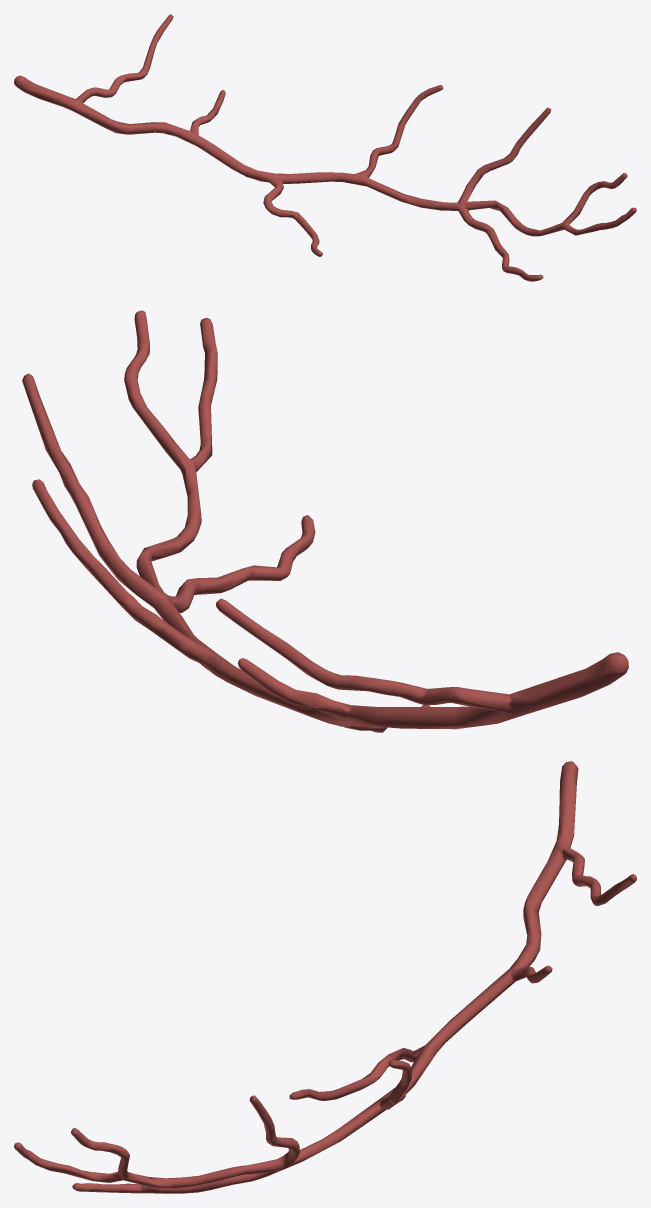
The model's file is FMA76994.glb.
The picture shows the model from 3 angles, top to bottom: view 1: azimuth 30°, elevation 25°; view 2: azimuth 150°, elevation 25°; view 3: azimuth 270°, elevation 25°; orthographic projection. The views are drawn at different scales.
Parts seen in each view (by area): view 1: FMA76994; view 2: FMA76994; view 3: FMA76994.
Part boxes in pixels (x1=…): FMA76994: x1=14, y1=14, x2=636, y2=281; FMA76994: x1=22, y1=310, x2=628, y2=732; FMA76994: x1=14, y1=761, x2=636, y2=1193.
Bounding box in the file's own units: 0.0543 × 0.0195 × 0.0505.
